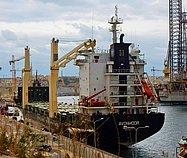Ship: (7, 3, 170, 152)
